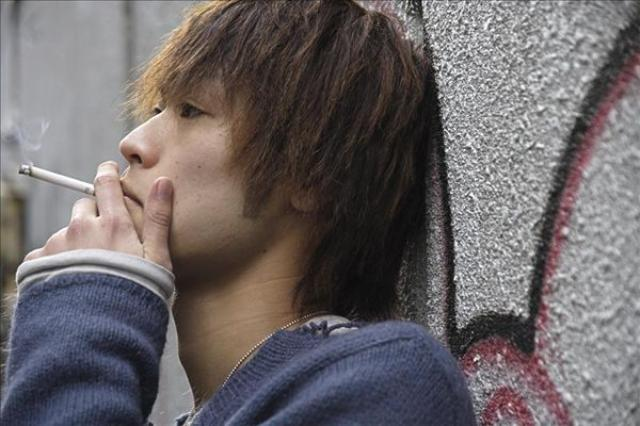SafeDriving: (166, 82, 220, 127)
Smoking: (19, 159, 93, 199)
